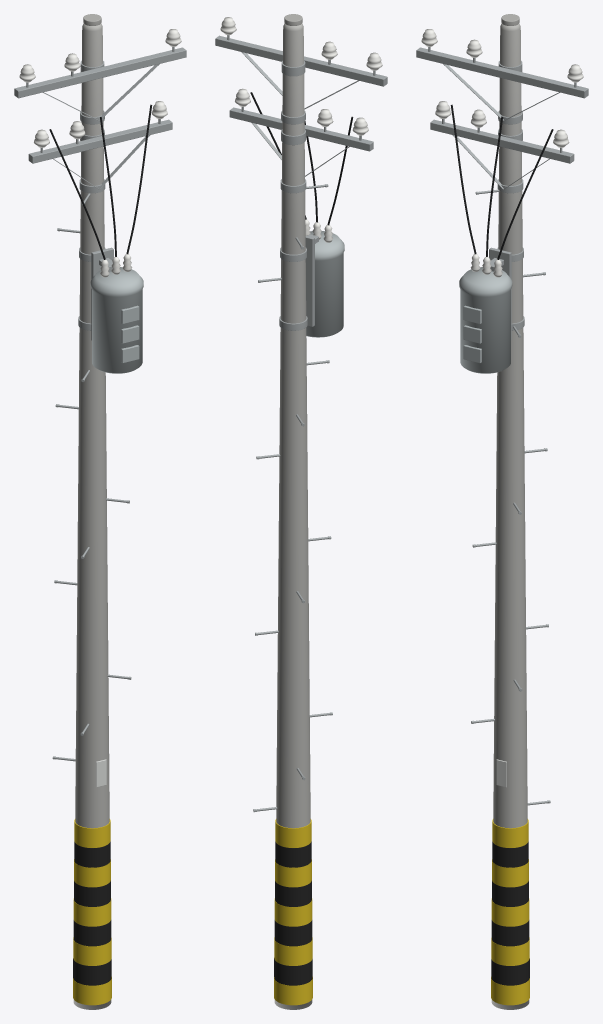
File: city-concrete-utility-pole.glb
3 renders of one model, left to right at view 1: azimuth 30°, elevation 25°; view 2: azimuth 150°, elevation 25°; view 3: azimuth 330°, elevation 25°, orthographic.
Visible parts, largest first — view 1: Assembly | Spun concrete, light grey, Assembly | Galvanized steel hardware, Assembly | Transformer grey paint, Assembly | Safety yellow sleeve, Assembly | Safety black sleeve, Assembly | Glazed white porcelain, Assembly | Black insulated lead; view 2: Assembly | Spun concrete, light grey, Assembly | Galvanized steel hardware, Assembly | Safety yellow sleeve, Assembly | Safety black sleeve, Assembly | Transformer grey paint, Assembly | Glazed white porcelain, Assembly | Black insulated lead; view 3: Assembly | Spun concrete, light grey, Assembly | Galvanized steel hardware, Assembly | Transformer grey paint, Assembly | Safety yellow sleeve, Assembly | Safety black sleeve, Assembly | Glazed white porcelain, Assembly | Black insulated lead.
Part boxes in pixels (bbox=[...]): Assembly | Spun concrete, light grey: bbox=[73, 14, 111, 1009]; Assembly | Galvanized steel hardware: bbox=[14, 47, 186, 761]; Assembly | Transformer grey paint: bbox=[90, 267, 143, 373]; Assembly | Safety yellow sleeve: bbox=[73, 819, 111, 1005]; Assembly | Safety black sleeve: bbox=[73, 841, 111, 985]; Assembly | Glazed white porcelain: bbox=[19, 29, 181, 277]; Assembly | Black insulated lead: bbox=[49, 104, 152, 259]; Assembly | Spun concrete, light grey: bbox=[274, 14, 312, 1009]; Assembly | Galvanized steel hardware: bbox=[215, 35, 387, 812]; Assembly | Safety yellow sleeve: bbox=[274, 819, 312, 1005]; Assembly | Safety black sleeve: bbox=[274, 841, 312, 985]; Assembly | Transformer grey paint: bbox=[306, 231, 344, 337]; Assembly | Glazed white porcelain: bbox=[220, 17, 382, 242]; Assembly | Black insulated lead: bbox=[250, 92, 353, 225]; Assembly | Spun concrete, light grey: bbox=[491, 14, 529, 1009]; Assembly | Galvanized steel hardware: bbox=[416, 47, 588, 805]; Assembly | Transformer grey paint: bbox=[459, 267, 512, 373]; Assembly | Safety yellow sleeve: bbox=[491, 819, 529, 1005]; Assembly | Safety black sleeve: bbox=[491, 841, 529, 985]; Assembly | Glazed white porcelain: bbox=[421, 29, 583, 277]; Assembly | Black insulated lead: bbox=[450, 104, 553, 259].
Bounding box in the file's own units: 1.8 × 10.05 × 0.992.
